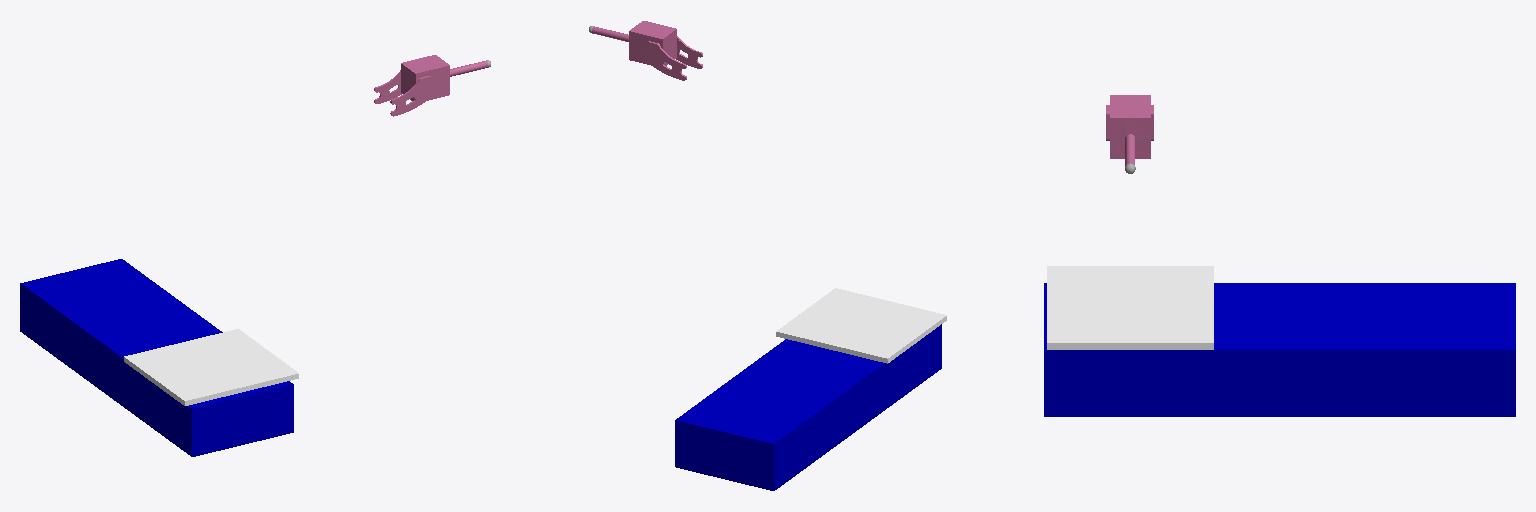
URDF robot description (rx200pantex):
<?xml version="1.0" ?>
<!-- =================================================================================== -->
<!-- |    This document was autogenerated by xacro from rx200pantex.urdf.xacro         | -->
<!-- |    EDITING THIS FILE BY HAND IS NOT RECOMMENDED                                 | -->
<!-- =================================================================================== -->
<robot name="rx200pantex">
  <material name="interbotix_black">
    <texture filename="package://data/sim/meshes/interbotix_black.png"/>
  </material>
  
  <material name="white">
	<color rgba="1 1 1 1"/>
  </material>
  
  <material name="blue">
	<color rgba="0 0 0.8 1"/>
  </material>
  
<!-- Linear actuator 9/29 -->
  
  <!-- body of the linear actuator that is mounted to the chamber. -->
  <link name="rx200pantex/base">
	<visual>
		<origin xyz="0 0 0"/>
		<geometry>
			<box size="0.14605 0.428625 0.066675"/>
		</geometry>
		<material name="blue"/>
	</visual>
	
	<collision>
		<origin xyz="0 0 0"/>
		<geometry>
			<box size="0.14605 0.428625 0.066675"/>
		</geometry>
	</collision>
	
	<inertial>
      <origin rpy="0 0 0" xyz="0 0 0"/>
      <mass value="0"/>
      <inertia ixx="0" ixy="0" ixz="0" iyy="0" iyz="0" izz="0"/>
    </inertial>
  </link>
  
  <!-- prismatic joint that connects base to mount. Linear (y) motion. -->
  <joint name="base_mount_joint" type="prismatic">
    <parent link="rx200pantex/base"/>
    <child link="rx200pantex/mount"/>
    <axis xyz="0 1 0"/>
    <limit effort="1000" lower="0" upper="0.270" velocity="1"/>
    <origin xyz="0 -0.13625625 0.0418375"/>
  </joint>
 
  <!-- mount plate that the RX200 rests upon -->
   <link name="rx200pantex/mount">
	<visual>
		<origin xyz="0 0 0"/>
		<geometry>
			<box size="0.1651 0.1524 0.007"/>
		</geometry>
		<material name="white"/>
	</visual>
	
	<collision>
		<origin xyz="0 0 0"/>
		<geometry>
			<box size="0.1651 0.1524 0.007"/>
		</geometry>
	</collision>
	
	<inertial>
      <origin rpy="0 0 1.5707963267948966" xyz="-0.0354389000 -0.0033586100 0.0253408000"/>
      <mass value="1"/>
      <inertia ixx="0.0033530000" ixy="-0.0001246000" ixz="0.0000110600" iyy="0.0013570000" iyz="0.0002103000" izz="0.0041110000"/>
    </inertial>
  </link>
  
  <!-- fixed joint that connects the mount to the base of the rx 200" -->
  <joint name="actuator_base_joint" type="fixed">
    <parent link="rx200pantex/mount"/>
    <child link="rx200pantex/waist_link"/>
    <origin xyz="0 0 0.003175"/>
  </joint>
<!-- end -->
  
<!-- trossen robotics -->
  <link name="rx200pantex/waist_link">
    <visual>
      <origin rpy="0 0 -1.5707963267948966" xyz="0 0 0"/>
      <geometry>
        <mesh filename="package://data/sim/meshes/RXA-200-M-1-Base.stl" scale="0.001 0.001 0.001"/>
      </geometry>
      <material name="interbotix_black"/>
    </visual>
    <collision>
      <origin rpy="0 0 -1.5707963267948966" xyz="0 0 0"/>
      <geometry>
        <mesh filename="package://data/sim/meshes/RXA-200-M-1-Base.stl" scale="0.001 0.001 0.001"/>
      </geometry>
    </collision>
    <inertial>
      <origin rpy="0 0 1.5707963267948966" xyz="-0.0354389000 -0.0033586100 0.0253408000"/>
      <mass value="0.766135"/>
      <inertia ixx="0.0033530000" ixy="-0.0001246000" ixz="0.0000110600" iyy="0.0013570000" iyz="0.0002103000" izz="0.0041110000"/>
    </inertial>
  </link>
  <joint name="waist" type="revolute">
    <axis xyz="0 0 1"/>
    <limit effort="8" lower="-3.141582653589793" upper="3.141582653589793" velocity="3.141592653589793"/>
    <origin rpy="0 0 0" xyz="0 0 0.06566"/>
    <parent link="rx200pantex/waist_link"/>
    <child link="rx200pantex/shoulder_link"/>
    <dynamics friction="0.1"/>
  </joint>
  <link name="rx200pantex/shoulder_link">
    <visual>
      <origin rpy="0 0 -1.5707963267948966" xyz="0 0 0.0015"/>
      <geometry>
        <mesh filename="package://data/sim/meshes/RXA-200-M-2-Shoulder.stl" scale="0.001 0.001 0.001"/>
      </geometry>
      <material name="interbotix_black"/>
    </visual>
    <collision>
      <origin rpy="0 0 -1.5707963267948966" xyz="0 0 0.0015"/>
      <geometry>
        <mesh filename="package://data/sim/meshes/RXA-200-M-2-Shoulder.stl" scale="0.001 0.001 0.001"/>
      </geometry>
    </collision>
    <inertial>
      <origin rpy="0 0 1.5707963267948966" xyz="-0.0000853644 0.0000173690 0.0132005000"/>
      <mass value="0.257774"/>
      <inertia ixx="0.0002663000" ixy="0.0000000009" ixz="0.0000000511" iyy="0.0004428000" iyz="0.0000004416" izz="0.0004711000"/>
    </inertial>
  </link>
  <joint name="shoulder" type="revolute">
    <axis xyz="0 1 0"/>
    <limit effort="1000" lower="-1.8849555921538759" upper="1.9722220547535925" velocity="1"/>
    <origin rpy="0 0 0" xyz="0 0 0.03891"/>
    <parent link="rx200pantex/shoulder_link"/>
    <child link="rx200pantex/upper_arm_link"/>
    <dynamics friction="0.1"/>
  </joint>
  <link name="rx200pantex/upper_arm_link">
    <visual>
      <origin rpy="0 0 1.5707963267948966" xyz="0 0 0"/>
      <geometry>
        <mesh filename="package://data/sim/meshes/RXA-200-M-3-UA.stl" scale="0.001 0.001 0.001"/>
      </geometry>
      <material name="interbotix_black"/>
    </visual>
    <collision>
      <origin rpy="0 0 1.5707963267948966" xyz="0 0 0"/>
      <geometry>
        <mesh filename="package://data/sim/meshes/RXA-200-M-3-UA.stl" scale="0.001 0.001 0.001"/>
      </geometry>
    </collision>
    <inertial>
      <origin rpy="0 0 1.5707963267948966" xyz="0.0119513000 -0.0001169230 0.1394300000"/>
      <mass value="0.297782"/>
      <inertia ixx="0.0017100000" ixy="-0.0000009773" ixz="0.0000020936" iyy="0.0016310000" iyz="0.0002132000" izz="0.0001478000"/>
    </inertial>
  </link>
  <joint name="elbow" type="revolute">
    <axis xyz="0 1 0"/>
    <limit effort="1000" lower="-1.8849555921538759" upper="1.6231562043547265" velocity="3.141592653589793"/>
    <origin rpy="0 0 0" xyz="0.05 0 0.2"/>
    <parent link="rx200pantex/upper_arm_link"/>
    <child link="rx200pantex/forearm_link"/>
    <dynamics friction="0.1"/>
  </joint>
  <link name="rx200pantex/forearm_link">
    <visual>
      <origin rpy="0 0 1.5707963267948966" xyz="0 0 0"/>
      <geometry>
        <mesh filename="package://data/sim/meshes/RXA-200-M-4-Forearm.stl" scale="0.001 0.001 0.001"/>
      </geometry>
      <material name="interbotix_black"/>
    </visual>
    <collision>
      <origin rpy="0 0 1.5707963267948966" xyz="0 0 0"/>
      <geometry>
        <mesh filename="package://data/sim/meshes/RXA-200-M-4-Forearm.stl" scale="0.001 0.001 0.001"/>
      </geometry>
    </collision>
    <inertial>
      <origin rpy="0 0 1.5707963267948966" xyz="0.1147450000 -0.0000938376 0.0000000000"/>
      <mass value="0.258863"/>
      <inertia ixx="0.0010550000" ixy="-0.0000018286" ixz="0.0000000000" iyy="0.0000642100" iyz="0.0000000000" izz="0.0010760000"/>
    </inertial>
  </link>
  <joint name="wrist_angle" type="revolute">
    <axis xyz="0 1 0"/>
    <limit effort="1000" lower="-1.57079632679" upper="1.57079632679" velocity="3.141592653589793"/>
    <origin rpy="0 0 0" xyz="0.2 0 0"/>
    <parent link="rx200pantex/forearm_link"/>
    <child link="rx200pantex/wrist_link"/>
    <dynamics friction="0.1"/>
  </joint>
  <link name="rx200pantex/wrist_link">
    <visual>
      <origin rpy="0 0 1.5707963267948966" xyz="0 0 0"/>
      <geometry>
	  <!--> Changed wrist to proper probe assembly<-->
        <mesh filename="package://data/sim/meshes/RXA-200-M-5-PROBE_ASSEMBLY.stl" scale="0.001 0.001 0.001"/>
      </geometry>
      <material name="interbotix_black"/>
    </visual>
    <collision>
      <origin rpy="1.5707963267948966 0 1.5707963267948966" xyz="0 0 0"/>
      <geometry>
	  <!--> Changed wrist to proper probe assembly<-->
	  <!--> Also made it use a VHACD model for accurate collisions <-->
	 	<mesh filename="package://data/sim/models/modified_wrist_vhacd.obj" scale="1 1 1"/>
      </geometry>
    </collision>
    <inertial>
      <origin rpy="0 0 1.5707963267948966" xyz="0.0423600000 -0.0000104110 0.0105770000"/>
      <mass value="0.084957"/>
      <inertia ixx="0.0000308200" ixy="0.0000000191" ixz="0.0000000023" iyy="0.0000282200" iyz="0.0000025481" izz="0.0000315200"/>
    </inertial>
  </link>
  
<!-- end of interbotix provided code -->

<joint name="probe_ref_joint" type="fixed">
    <origin rpy="0 0 0" xyz="0.1475 0 0.0175"/>
    <parent link="rx200pantex/wrist_link"/>
    <child link="rx200pantex/probe_tip_ref"/>
</joint>

<link name="rx200pantex/probe_tip_ref">
    <visual>
      <origin rpy="0 0 0" xyz="0 0 0"/>
      <geometry>
        <sphere radius="0.005"/>
      </geometry>
      <material name="interbotix_black"/>
    </visual>
	
    <collision>
      <origin rpy="0 0 0" xyz="0 0 0"/>
      <geometry>
        <sphere radius="0.005"/>
      </geometry>
    </collision>
	
	 <inertial>
      <origin rpy="0 0 0" xyz="0 0 0"/>
      <mass value="1"/>
      <inertia ixx="0" ixy="0" ixz="0" iyy="0" iyz="0" izz="0"/>
    </inertial>
</link>


</robot>

--- Render facts (derived) ---
Views: 3 orthographic renders of the robot side by side, from view 1: azimuth 30°, elevation 25°; view 2: azimuth 150°, elevation 25°; view 3: azimuth 270°, elevation 25°.
Model rx200pantex with 8 links and 7 joints (4 revolute, 1 prismatic, 2 fixed), rooted at rx200pantex/base, posed every joint at zero.
Links seen in each view (by area): view 1: rx200pantex/base, rx200pantex/mount, rx200pantex/wrist_link; view 2: rx200pantex/base, rx200pantex/mount, rx200pantex/wrist_link; view 3: rx200pantex/base, rx200pantex/mount, rx200pantex/wrist_link.
Link boxes in pixels (x1,y1,x2,y2): rx200pantex/base: (20,259,293,456); rx200pantex/mount: (124,329,298,405); rx200pantex/wrist_link: (374,55,487,116); rx200pantex/base: (675,324,941,490); rx200pantex/mount: (776,288,946,363); rx200pantex/wrist_link: (592,21,702,80); rx200pantex/base: (1044,283,1515,416); rx200pantex/mount: (1047,266,1213,349); rx200pantex/wrist_link: (1106,95,1153,165).
Size in the robot's own frame: 0.485 by 0.4286 by 0.421 metres.
1 mesh visuals loaded from 5 distinct referenced files (1 binary STL); not drawn: 4 (reference not matched to a file when rendering).
